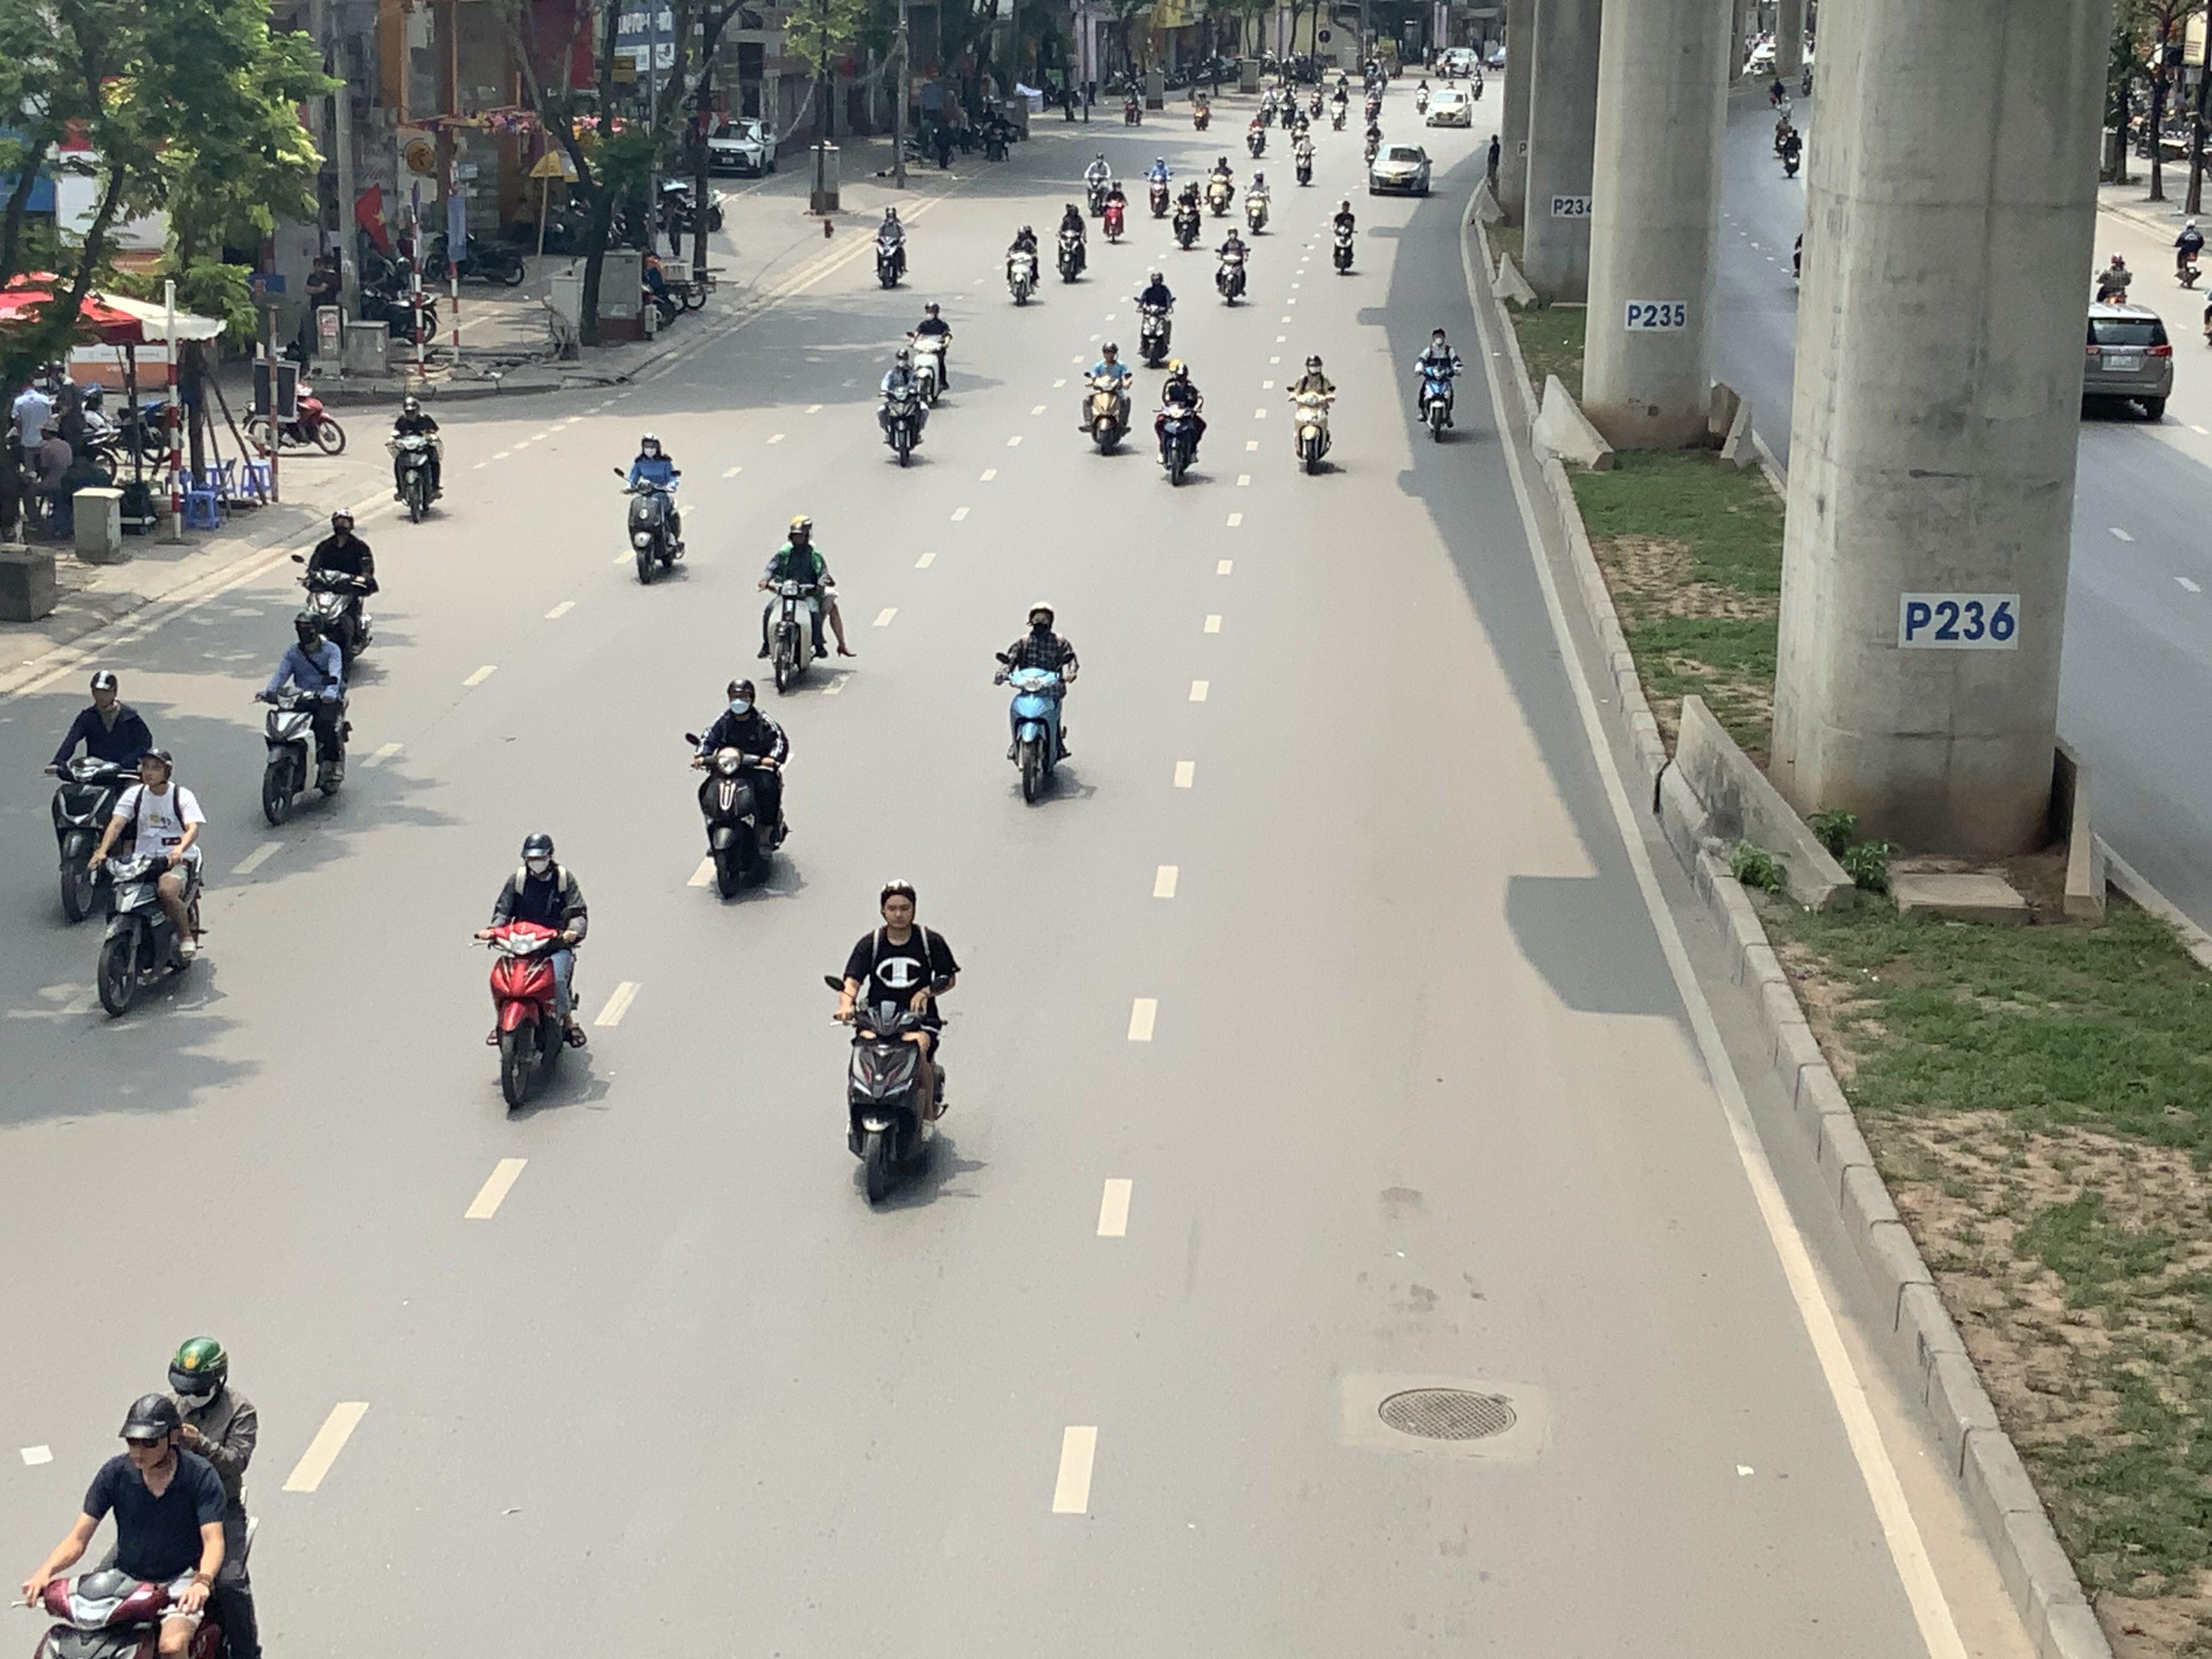car: (2085, 303, 2175, 420), (705, 119, 777, 176), (1367, 141, 1433, 195), (1421, 84, 1475, 129)
motorbike: (19, 1335, 266, 1659), (829, 880, 956, 1209), (91, 746, 209, 1023), (477, 831, 589, 1119), (45, 667, 155, 925), (688, 676, 792, 904), (256, 612, 352, 826), (756, 516, 852, 694), (996, 603, 1080, 805), (294, 509, 378, 664), (618, 434, 688, 584), (256, 354, 347, 457), (388, 392, 444, 523), (1155, 357, 1207, 486), (1287, 352, 1339, 476), (878, 349, 930, 467), (1080, 340, 1132, 455), (1414, 324, 1463, 441), (904, 298, 954, 406), (1134, 267, 1177, 368), (1003, 218, 1042, 307), (1214, 220, 1252, 307), (873, 204, 911, 289), (1054, 197, 1089, 284), (2174, 214, 2207, 289), (1170, 176, 1204, 249), (2094, 251, 2134, 307), (1331, 197, 1359, 275), (1205, 153, 1237, 218), (1099, 176, 1129, 244), (1244, 167, 1273, 235), (1144, 152, 1174, 220), (1083, 152, 1113, 216)
